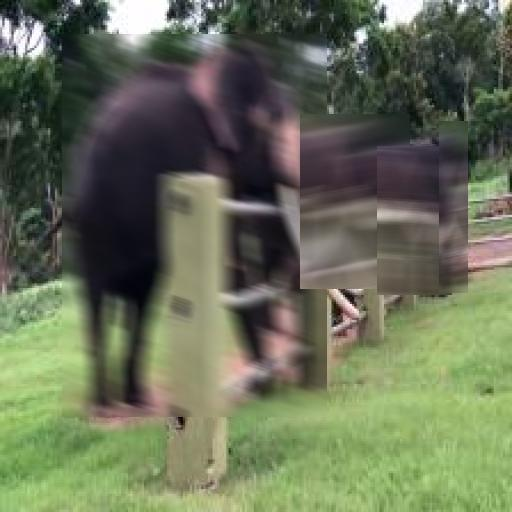Elephant: (62, 34, 327, 417), (300, 114, 410, 289), (377, 146, 452, 295), (439, 121, 468, 293)
